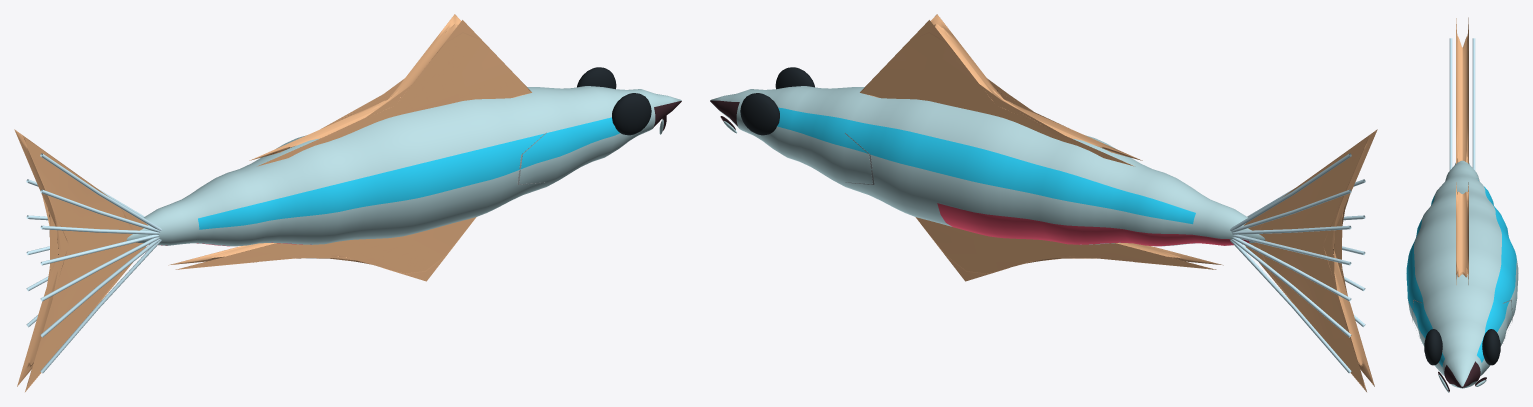
File: NeonTetra_Refined.fbx
3 views of the same model, side by side, from view 1: azimuth 30°, elevation 25°; view 2: azimuth 150°, elevation 25°; view 3: azimuth 270°, elevation 25° (orthographic). The views are drawn at different scales.
Visible parts, largest first — view 1: Neon tetra hydrodynamic body, Neon tetra caudal fin, Neon tetra dorsal fin, Neon tetra anal fin, Neon tetra eye, Neon caudal ray, Neon tetra eye.001, Neon caudal ray.001, Neon caudal ray.006; view 2: Neon tetra hydrodynamic body, Neon tetra caudal fin, Neon tetra dorsal fin, Neon tetra anal fin, Neon tetra eye.001, Neon caudal ray.007, Neon tetra eye, Neon caudal ray.008, Neon caudal ray.013; view 3: Neon tetra hydrodynamic body, Neon tetra caudal fin, Neon tetra dorsal fin, Neon tetra eye, Neon tetra eye.001, Neon caudal ray.006, Neon caudal ray.013.
Boxes of the visible parts, x1,y1,x2,y2 form: Neon tetra hydrodynamic body: (126,86,681,246); Neon tetra caudal fin: (14,129,148,391); Neon tetra dorsal fin: (249,14,531,166); Neon tetra anal fin: (168,217,476,281); Neon tetra eye: (612,93,651,135); Neon caudal ray: (40,239,161,373); Neon tetra eye.001: (577,67,616,89); Neon caudal ray.001: (40,239,160,337); Neon caudal ray.006: (40,153,161,230); Neon tetra hydrodynamic body: (710,86,1265,246); Neon tetra caudal fin: (1243,129,1377,391); Neon tetra dorsal fin: (860,14,1142,166); Neon tetra anal fin: (915,217,1223,281); Neon tetra eye.001: (740,93,779,135); Neon caudal ray.007: (1230,239,1351,373); Neon tetra eye: (775,67,814,89); Neon caudal ray.008: (1231,239,1351,337); Neon caudal ray.013: (1230,153,1351,230); Neon tetra hydrodynamic body: (1406,160,1518,388); Neon tetra caudal fin: (1456,17,1468,163); Neon tetra dorsal fin: (1456,182,1468,284); Neon tetra eye: (1424,329,1442,365); Neon tetra eye.001: (1482,329,1500,365); Neon caudal ray.006: (1449,38,1452,170); Neon caudal ray.013: (1472,38,1475,170).
Size of the model in its own units: 148 by 56.71 by 26.3.
